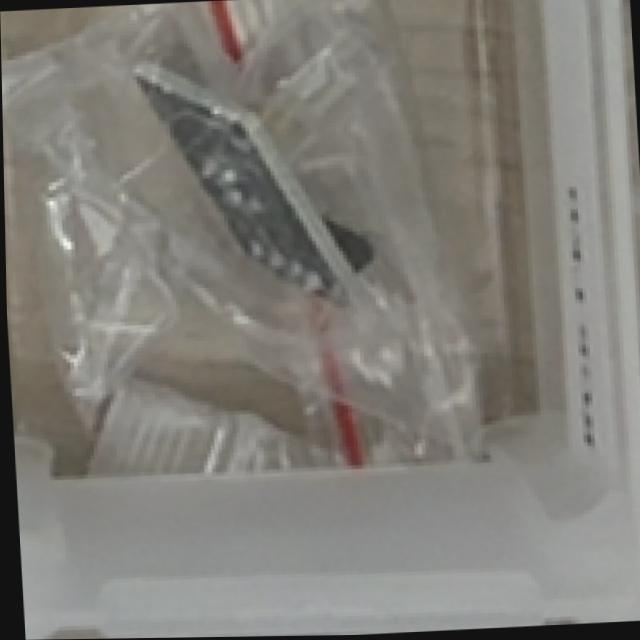RGB LED: (122, 12, 372, 319)
